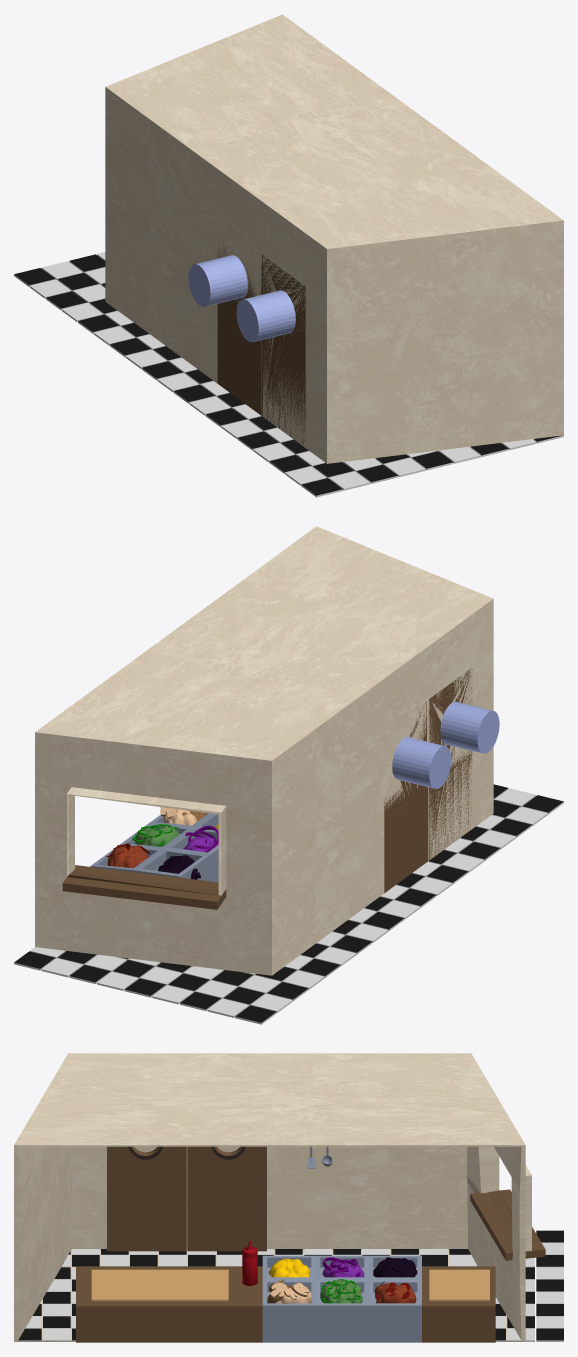
File: kitchen.fbx
The picture shows the model from 3 angles, top to bottom: view 1: azimuth 30°, elevation 25°; view 2: azimuth 150°, elevation 25°; view 3: azimuth 270°, elevation 25°; orthographic projection. The views are drawn at different scales.
Visible parts, largest first — view 1: Cube, Cube.004, Cube.007, Cube.009, Cylinder, Cylinder.001; view 2: Cube, Cube.004, Cube.009, Cube.007, Cube.002, Cylinder, Cylinder.001, Sphere.001, Sphere.002; view 3: Cube, Cube.004, Cube.003, Cube.002, Cube.007, Cube.009, Cube.005, Cube.001, Cube.006, Sphere.002, Sphere.009, Sphere.001 (+2 smaller).
Boxes of the visible parts, x1,y1,x2,y2 form: Cube: (105,14,563,463); Cube.004: (14,252,563,497); Cube.007: (262,255,305,444); Cube.009: (217,244,261,415); Cylinder: (236,290,295,342); Cylinder.001: (188,255,247,306); Cube: (35,526,493,975); Cube.004: (14,784,563,1024); Cube.009: (384,701,427,892); Cube.007: (428,668,472,860); Cube.002: (90,813,218,882); Cylinder: (440,701,499,753); Cylinder.001: (392,737,451,788); Sphere.001: (107,844,148,868); Sphere.002: (135,824,179,846); Cube: (14,1053,545,1341); Cube.004: (18,1230,563,1341); Cube.003: (76,1266,262,1342); Cube.002: (262,1255,421,1342); Cube.007: (107,1146,186,1251); Cube.009: (187,1146,266,1251); Cube.005: (91,1269,228,1301); Cube.001: (422,1266,495,1342); Cube.006: (429,1269,489,1301); Sphere.002: (320,1280,362,1303); Sphere.009: (268,1258,310,1277); Sphere.001: (374,1282,416,1303).
Bounding box in the file's own units: 242 × 200 × 506.
46 materials, 1 textured.
